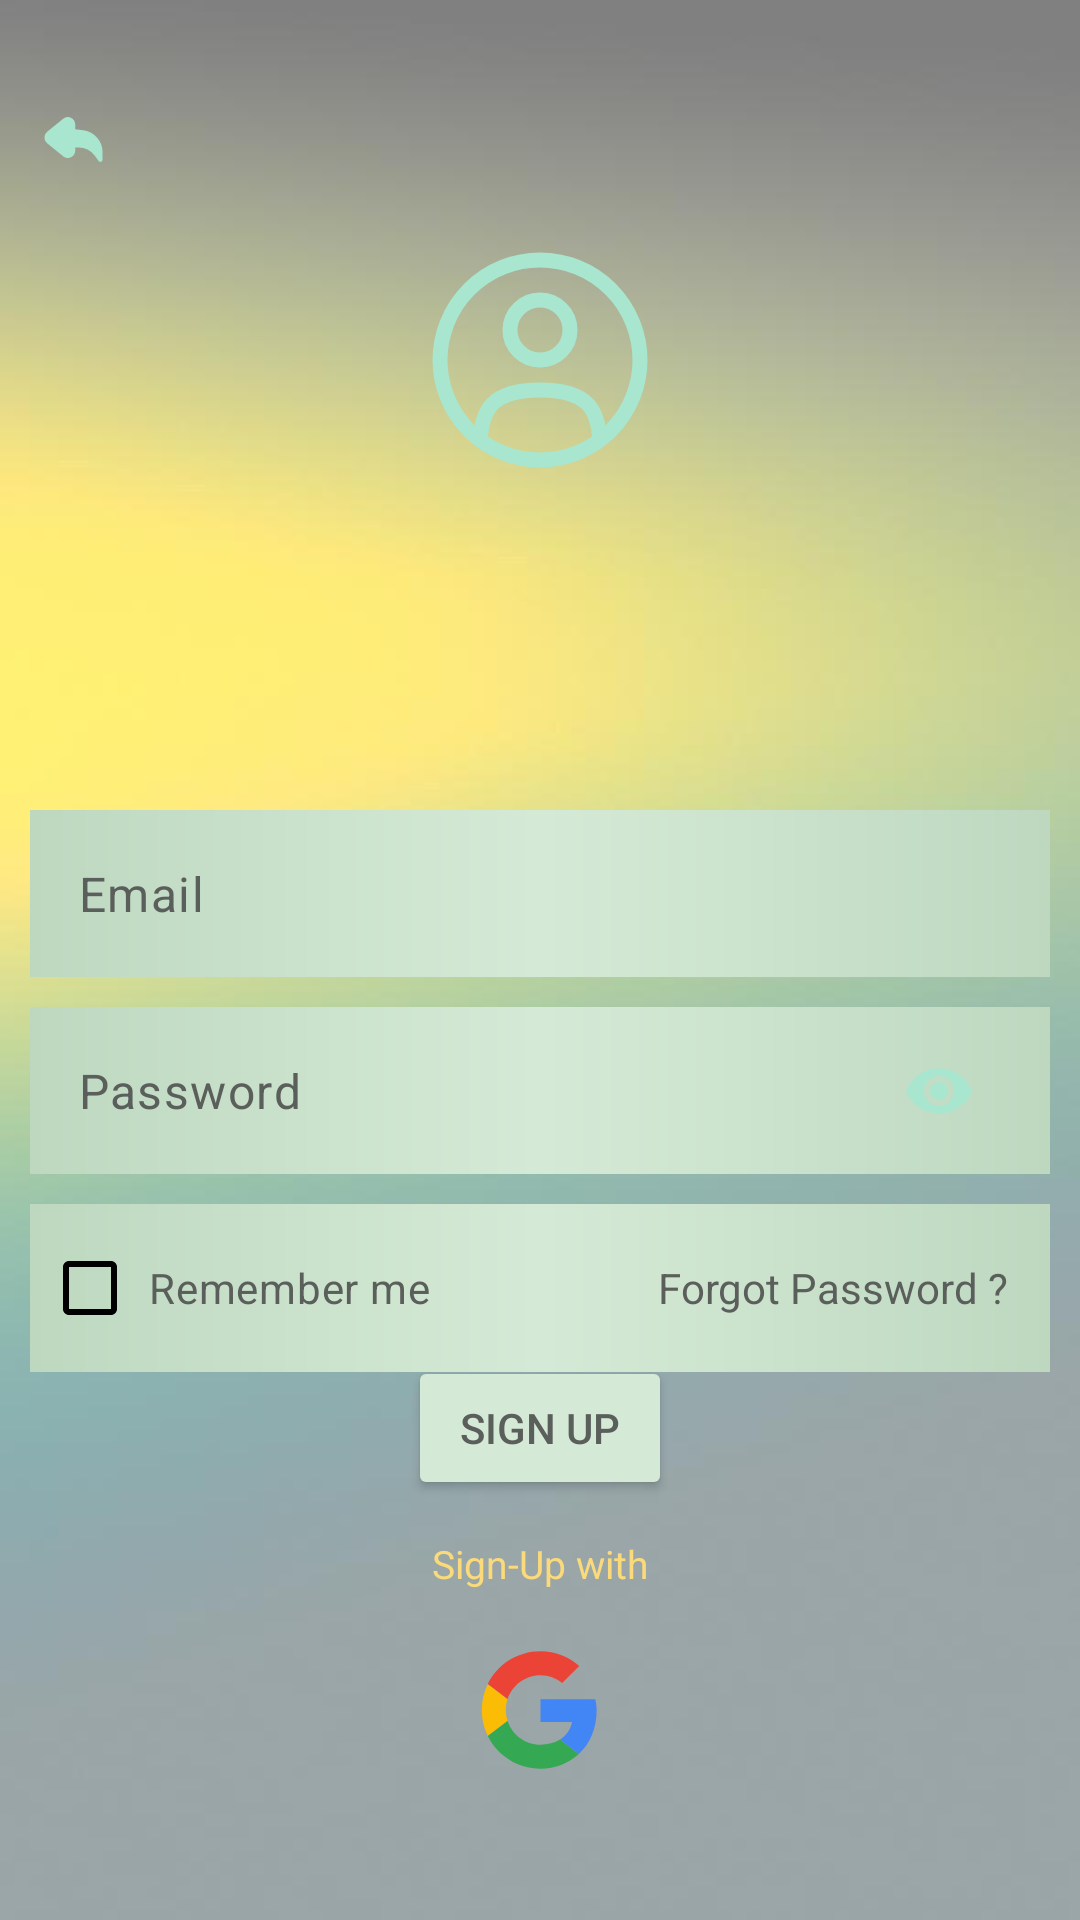

Named icons in this screenshot (1080*1920) and their centers, (x=x, y=y):
gobackicon: (x=73, y=139)
user circle: (x=540, y=360)
